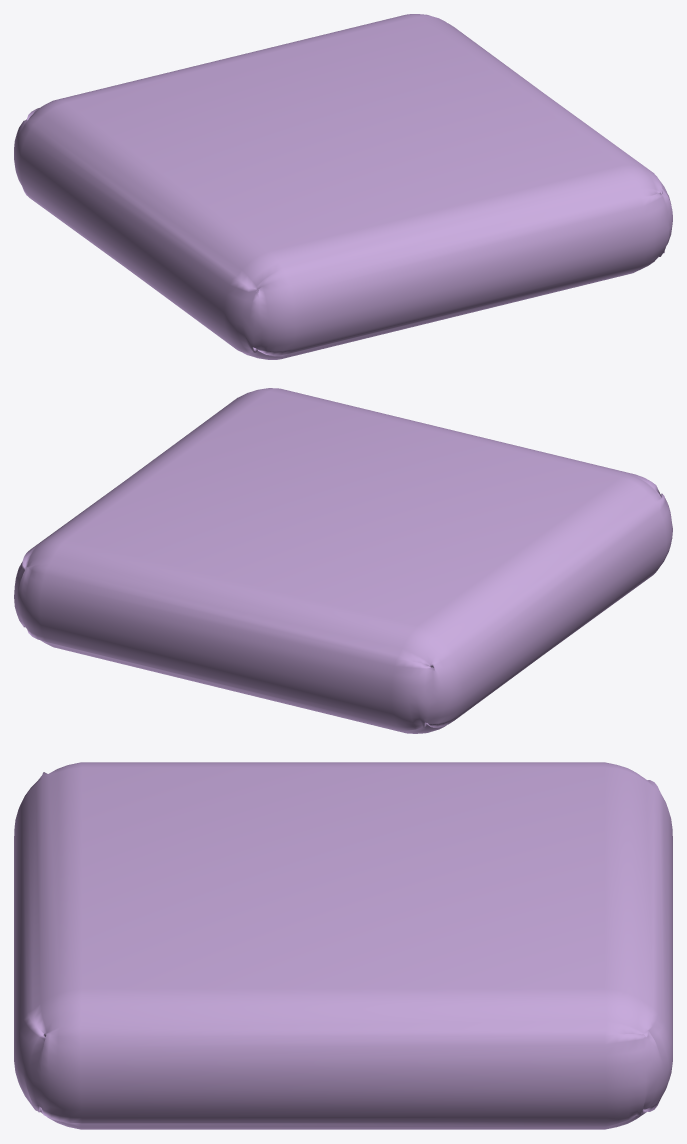
The model's file is badge_typescript.glb.
The picture shows the model from 3 angles, top to bottom: view 1: azimuth 30°, elevation 25°; view 2: azimuth 150°, elevation 25°; view 3: azimuth 270°, elevation 25°; orthographic projection. The views are drawn at different scales.
Parts seen in each view (by area): view 1: badge_typescript; view 2: badge_typescript; view 3: badge_typescript.
Boxes of the visible parts, x1,y1,x2,y2 form: badge_typescript: (14, 14, 672, 359); badge_typescript: (14, 388, 672, 733); badge_typescript: (14, 762, 672, 1129).
Size of the model in its own units: 1.54 by 0.3499 by 1.54.
